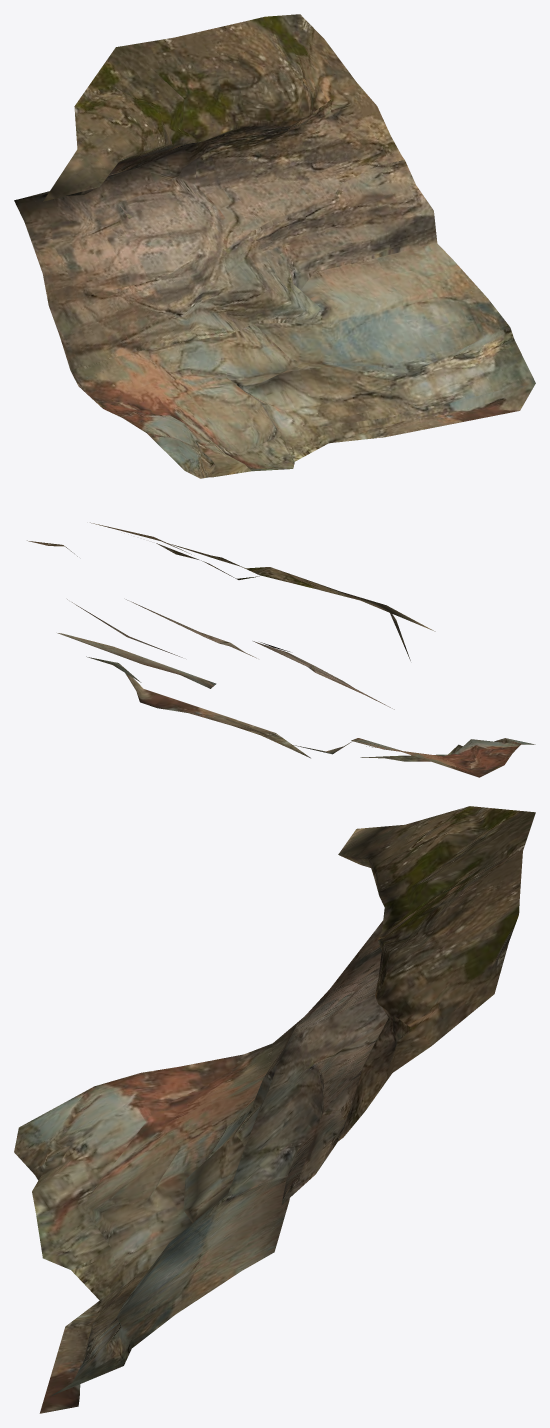
The picture shows the model from 3 angles, top to bottom: view 1: azimuth 30°, elevation 25°; view 2: azimuth 150°, elevation 25°; view 3: azimuth 270°, elevation 25°; orthographic projection. The views are drawn at different scales.
Parts seen in each view (by area): view 1: rock_face_01_lod2; view 2: rock_face_01_lod2; view 3: rock_face_01_lod2.
Boxes of the visible parts, left/top/right/bottom form: rock_face_01_lod2: left=14, top=14, right=535, bottom=478; rock_face_01_lod2: left=27, top=522, right=535, bottom=777; rock_face_01_lod2: left=14, top=806, right=535, bottom=1413.
Size of the model in its own units: 4.85 by 3.56 by 3.79.
1 material, 1 textured.
